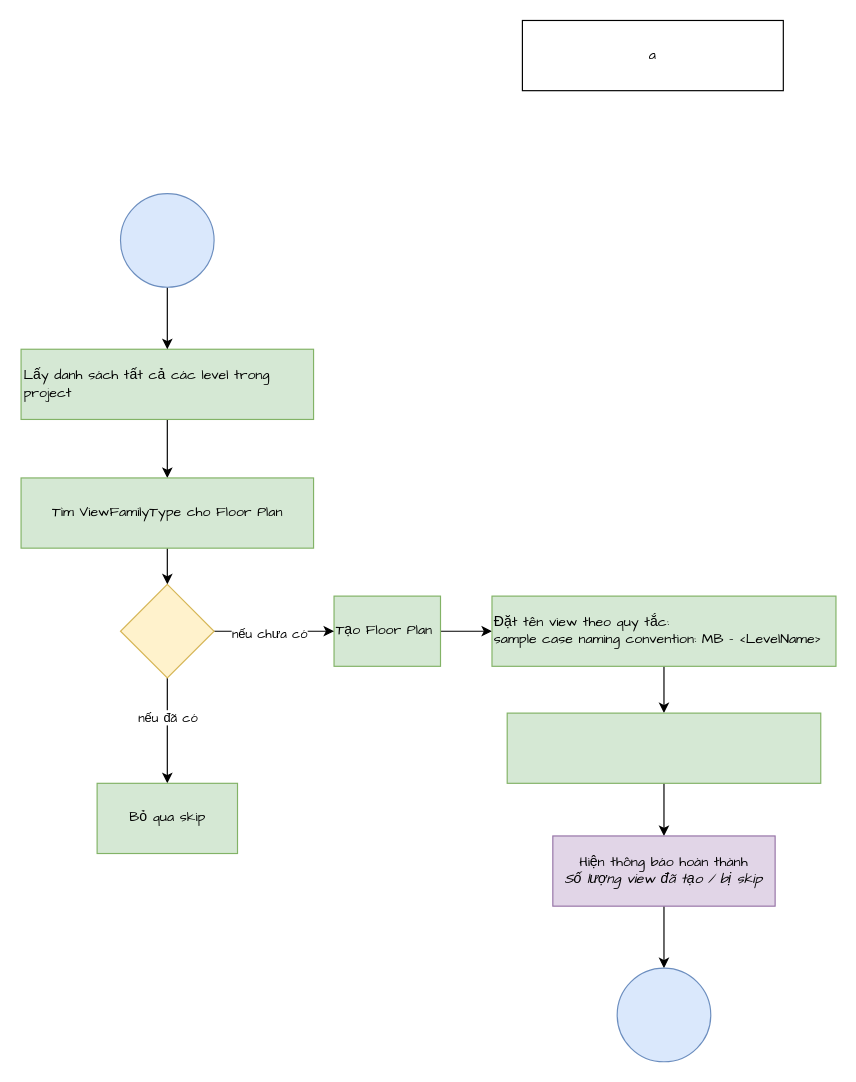
The diagram is 856 pixels wide and 1082 high, and some of its shapes have lost their labels. The shapes that lost their labels are listed below. From the top down, each one's box as (x1, y1, x2, y2) in pixels, then its label:
(119, 192, 214, 287): Bắt đầu
(119, 583, 214, 678): Duyệt từng Level
(506, 712, 821, 783): Commit transaction để ghi thay đổi vào mô hình
(616, 967, 711, 1062): Kết thúc
